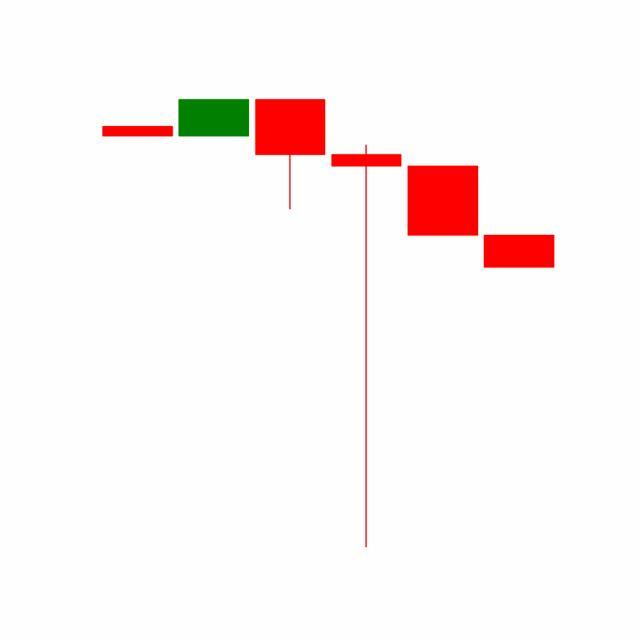Marubozu: (404, 166, 482, 237)
